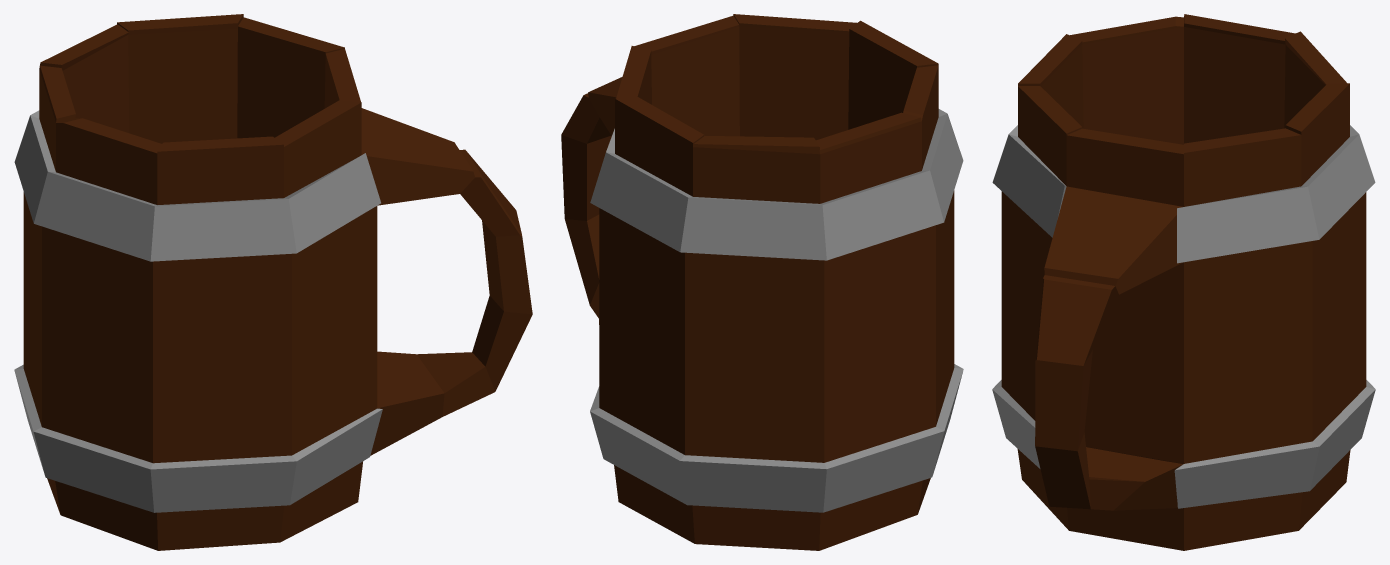
Rendered from Cup.fbx.
3 renders of one model, left to right at view 1: azimuth 30°, elevation 25°; view 2: azimuth 150°, elevation 25°; view 3: azimuth 270°, elevation 25°, orthographic.
Visible parts, largest first — view 1: Cup; view 2: Cup; view 3: Cup.
Boxes of the visible parts, bbox=[...] form: Cup: bbox=[14, 14, 532, 550]; Cup: bbox=[561, 14, 963, 550]; Cup: bbox=[992, 14, 1375, 550].
Bounding box in the file's own units: 22.72 × 20.27 × 17.55.
